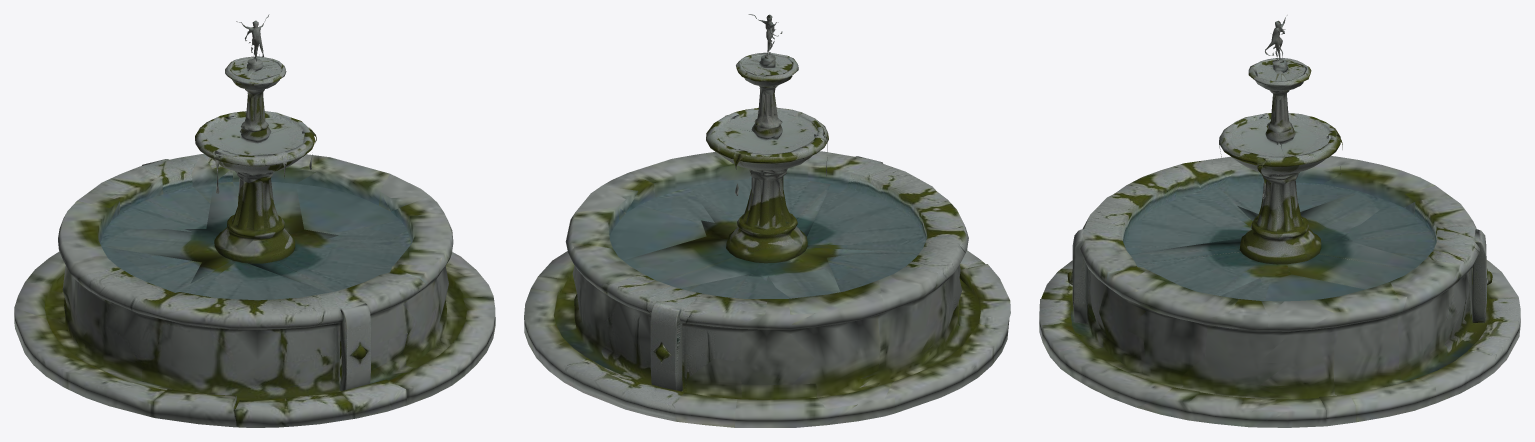
File: plaza-fountain.glb
The picture shows the model from 3 angles, left to right: view 1: azimuth 30°, elevation 25°; view 2: azimuth 150°, elevation 25°; view 3: azimuth 270°, elevation 25°; orthographic projection.
Bounding box in the file's own units: 0.9545 × 0.6699 × 0.9561.
Materials: 1 (1 with a texture image).
